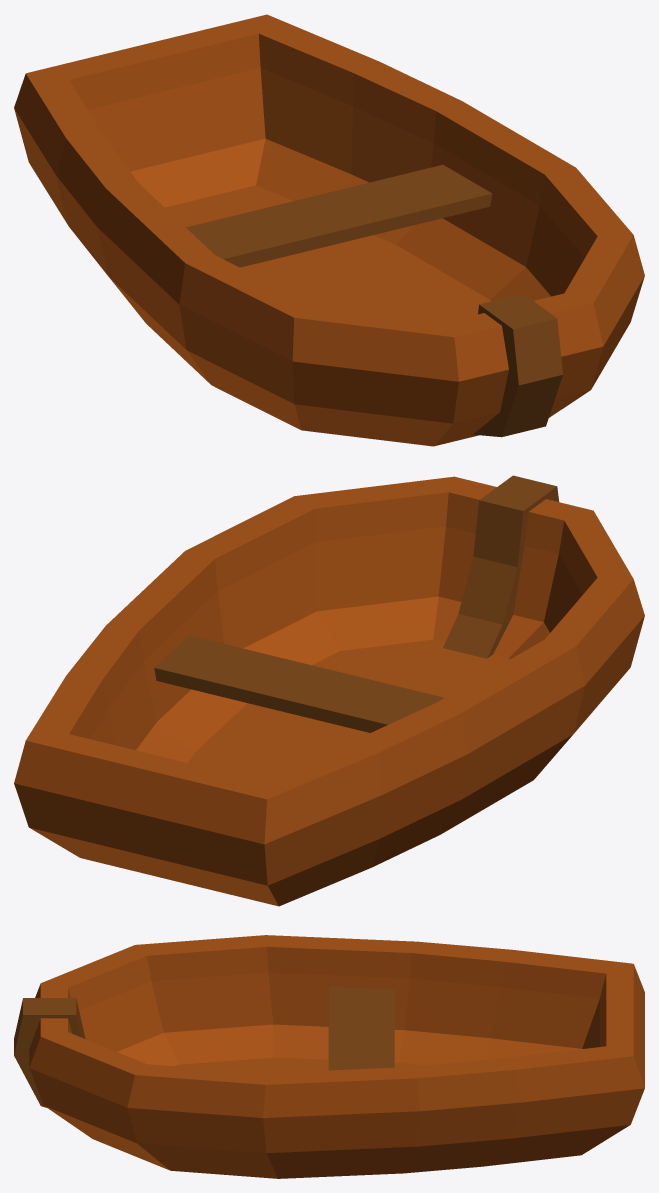
The model's file is Boat_01.fbx.
3 views of the same model, one above another, from view 1: azimuth 30°, elevation 25°; view 2: azimuth 150°, elevation 25°; view 3: azimuth 270°, elevation 25° (orthographic). The views are drawn at different scales.
Parts seen in each view (by area): view 1: Boat_01; view 2: Boat_01; view 3: Boat_01.
Boxes of the visible parts, box(x1,y1,x2,y2) form: Boat_01: box(14, 14, 644, 446); Boat_01: box(14, 475, 644, 906); Boat_01: box(14, 935, 644, 1178).
Size of the model in its own units: 236 by 78.27 by 404.
